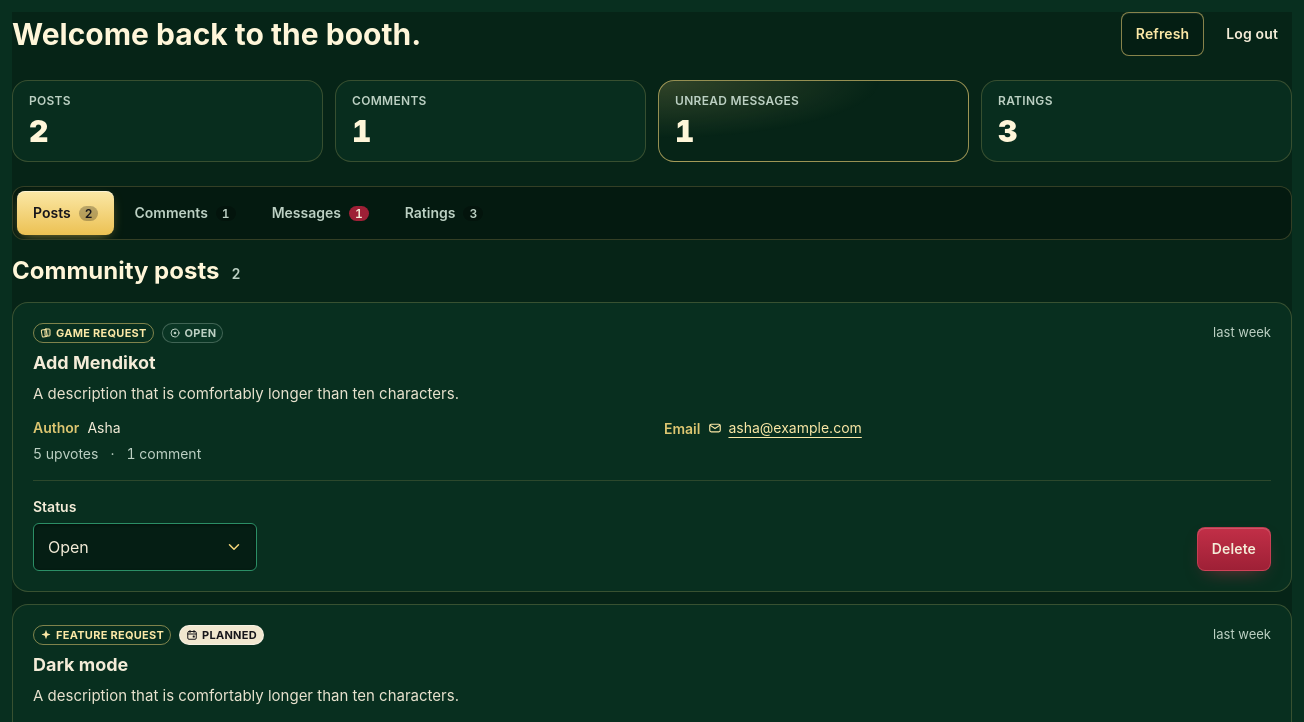
Test: AdminApp — posts › changes a status, confirms with a toast and refreshes
Check: the list item with test id "admin-post-1" is shown, box [12,302,1292,592]
Step 1. Select "In progress" in the dropdown with test id "admin-status-1" → (145, 547), box [33,523,257,571]
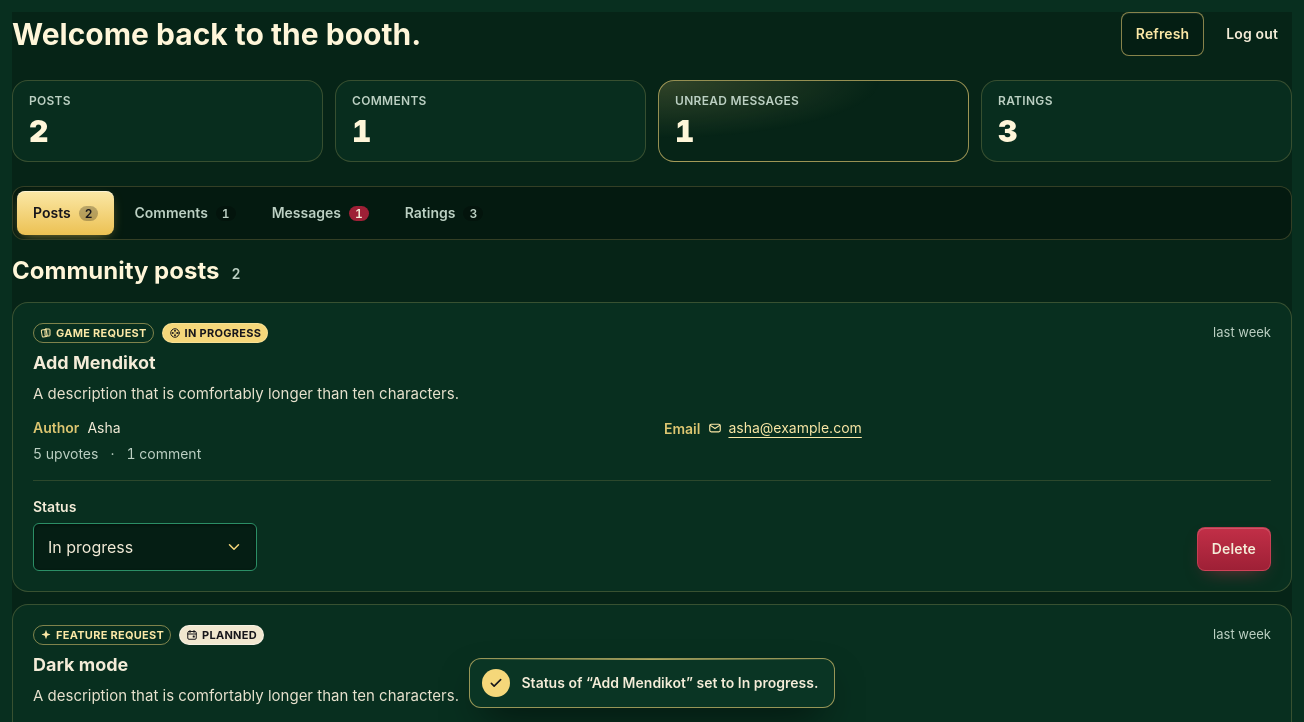
Check: the element with test id "toast" reads "Status of “Add Mendikot” set to In progress.", box [522,674,818,691]
